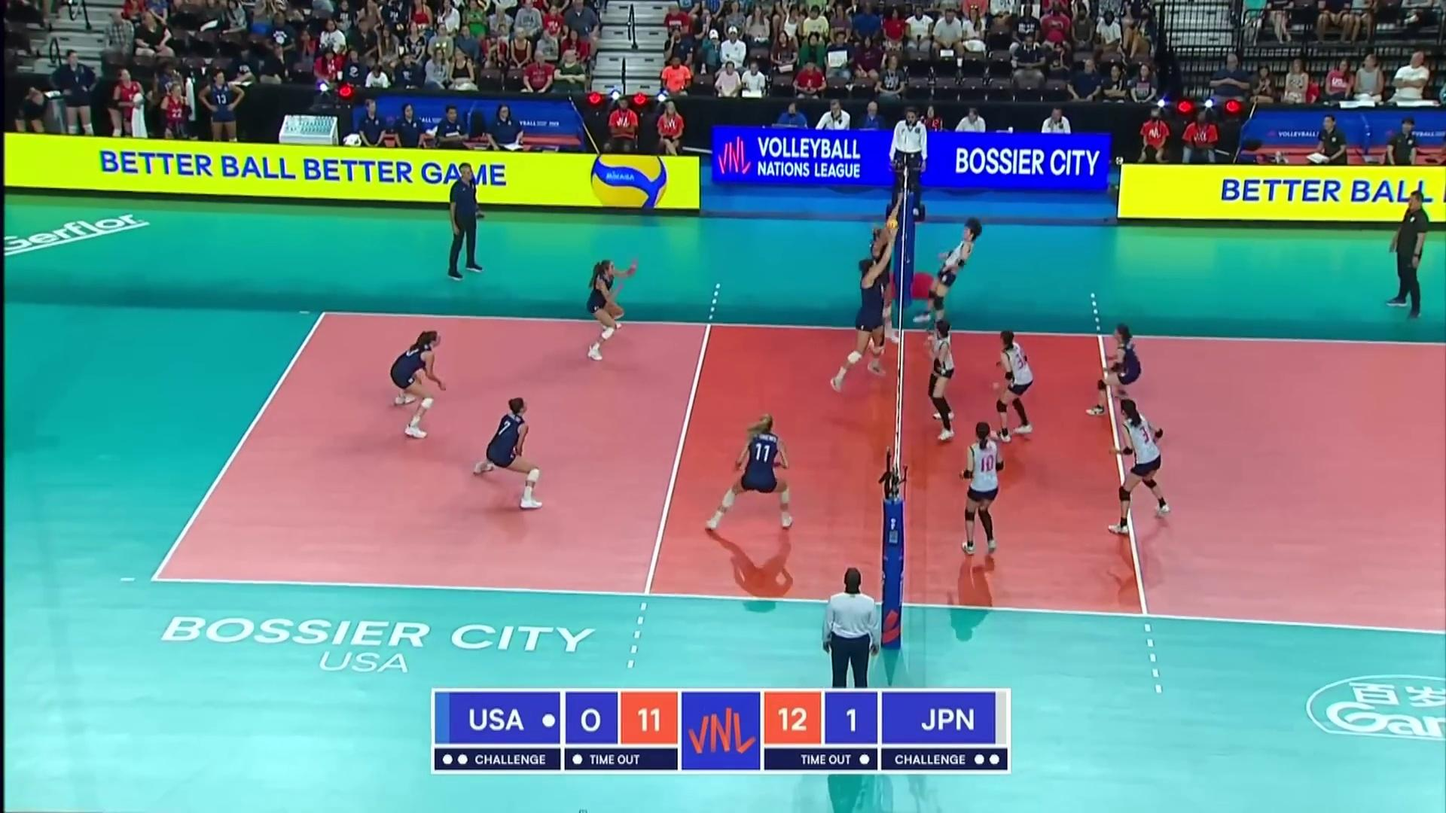player: (828, 227, 898, 393), (705, 411, 795, 532), (914, 219, 980, 352), (1109, 398, 1170, 537), (473, 398, 544, 508), (391, 330, 451, 440), (958, 422, 1002, 553), (586, 258, 638, 363), (1088, 324, 1142, 416), (994, 328, 1037, 443), (867, 218, 898, 355), (929, 321, 956, 440)
refree: (821, 570, 884, 690), (889, 108, 928, 217)
